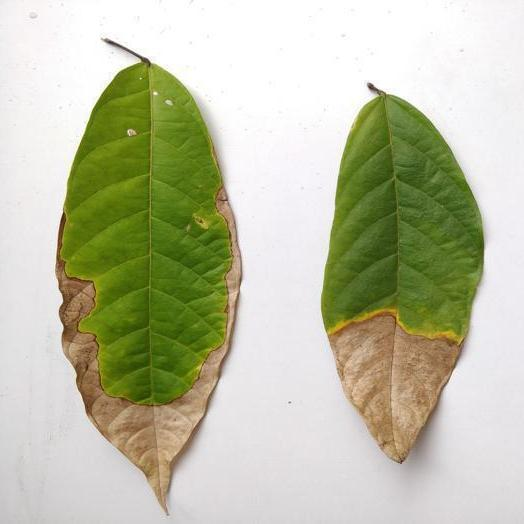Potassium: (56, 39, 240, 510), (321, 84, 483, 461)
